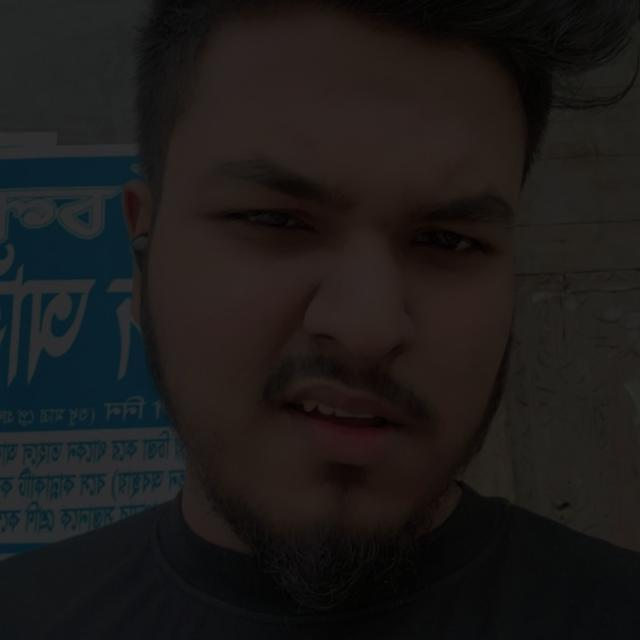Disgust: (116, 39, 539, 585)
